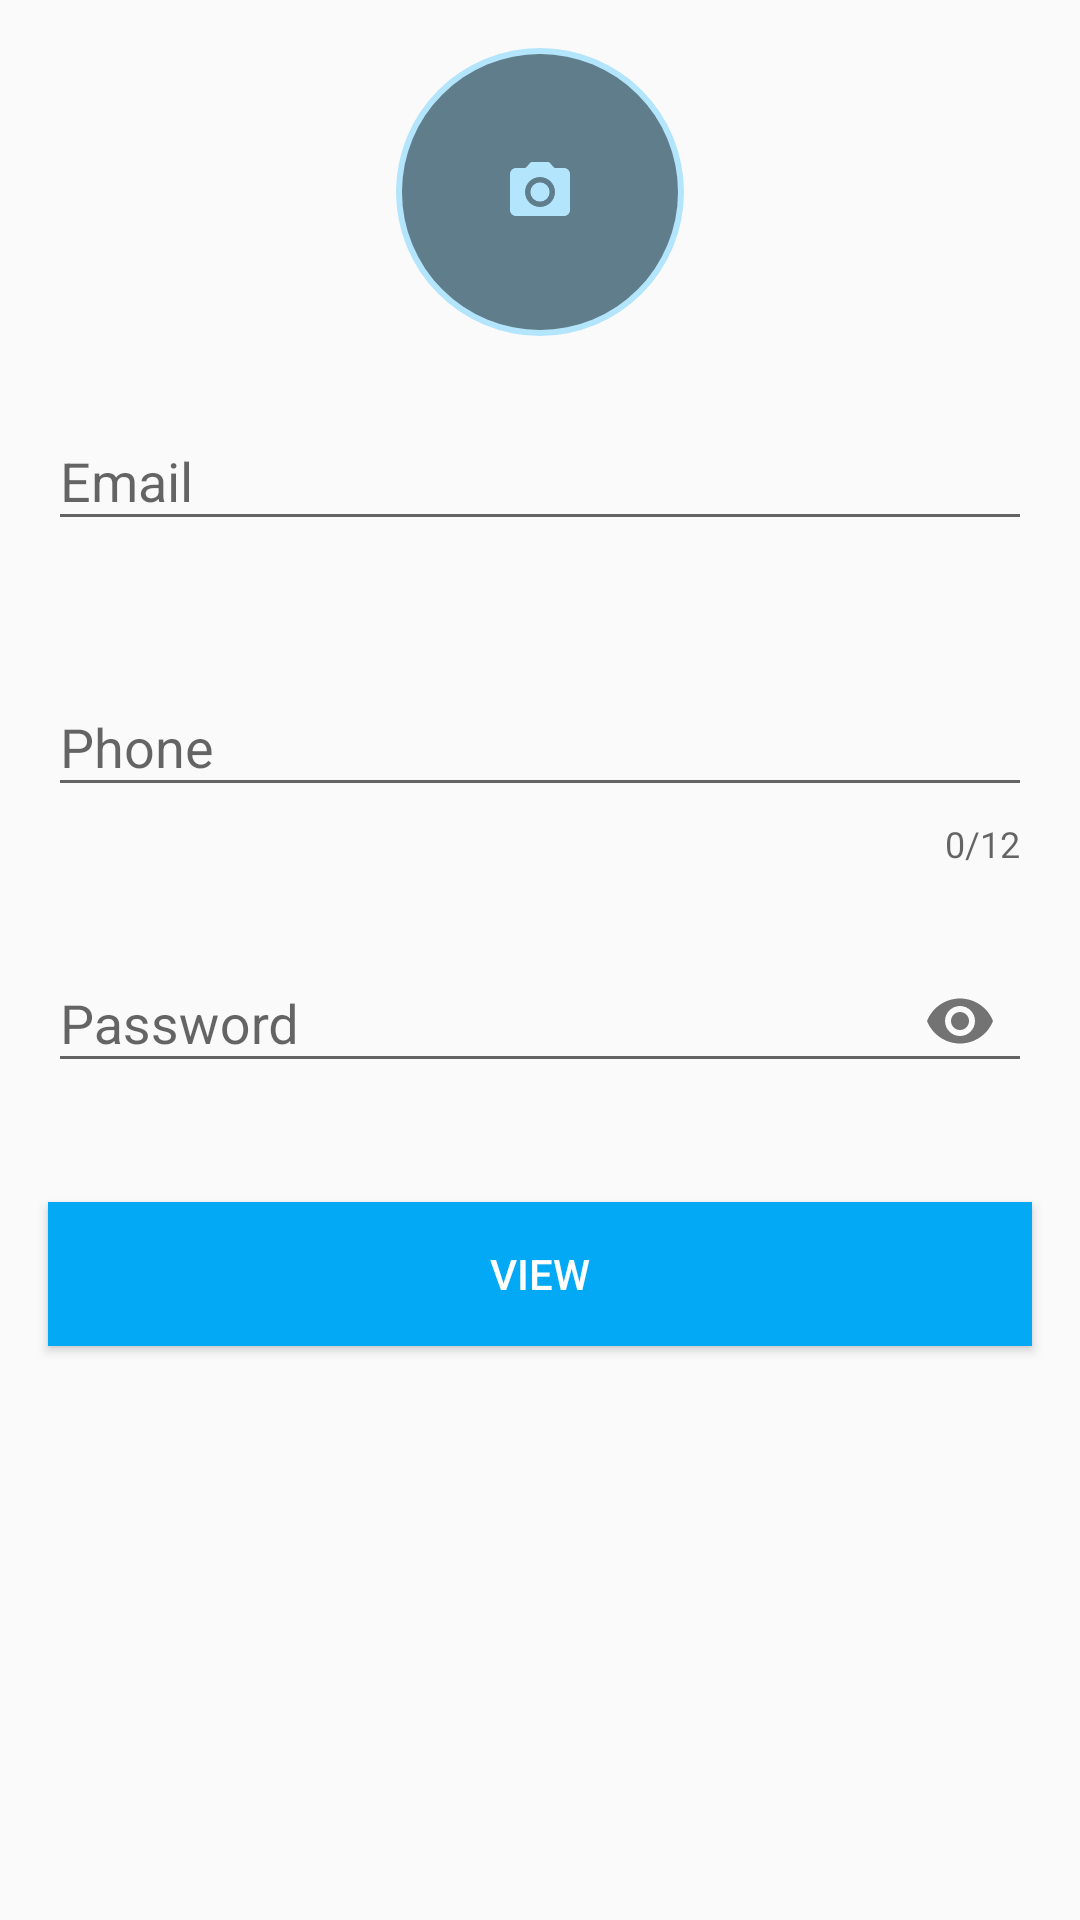

Icon click points for this 1080x1920 phone screenshot, format point (x, y):
photo camera: point (540, 192)
